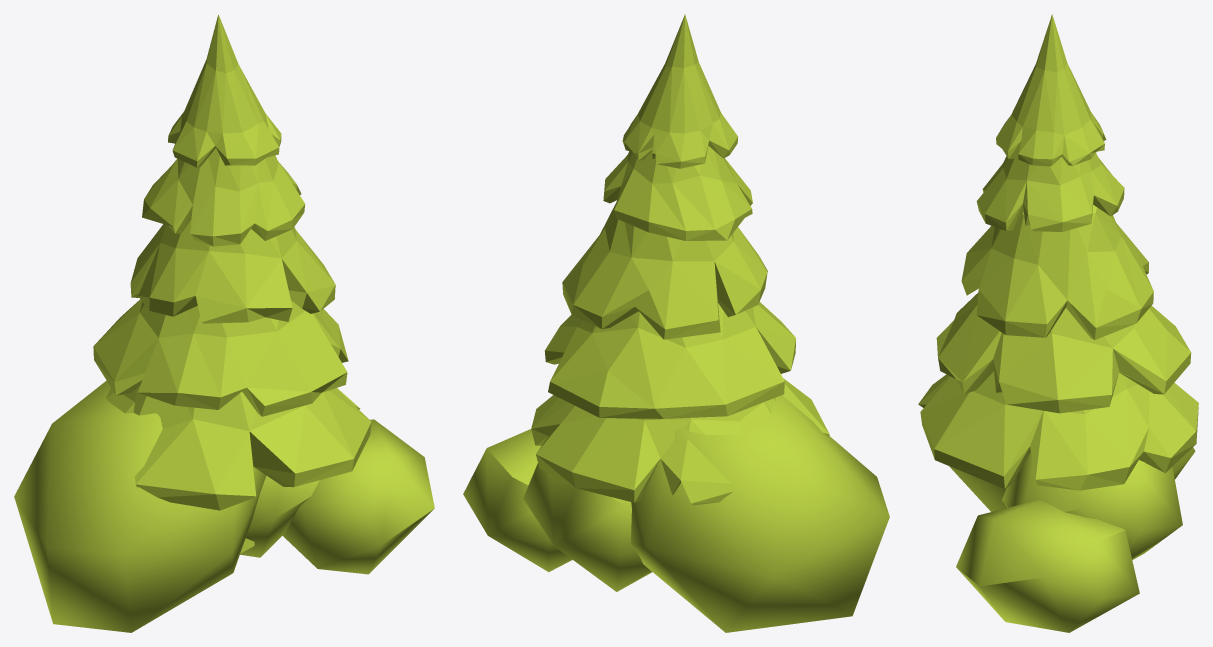
Rendered from Trees.fbx.
The picture shows the model from 3 angles, left to right: view 1: azimuth 30°, elevation 25°; view 2: azimuth 150°, elevation 25°; view 3: azimuth 270°, elevation 25°; orthographic projection. The views are drawn at different scales.
Visible parts, largest first — view 1: Tree_01, Tree_02; view 2: Tree_01, Tree_02; view 3: Tree_01, Tree_02.
Part boxes in pixels (left/top/right/bottom): Tree_01: left=93, top=14, right=371, bottom=553; Tree_02: left=14, top=380, right=434, bottom=632; Tree_01: left=531, top=14, right=829, bottom=505; Tree_02: left=463, top=395, right=889, bottom=632; Tree_01: left=918, top=14, right=1198, bottom=490; Tree_02: left=949, top=447, right=1195, bottom=632.
Bounding box in the file's own units: 150 × 214 × 97.29.
